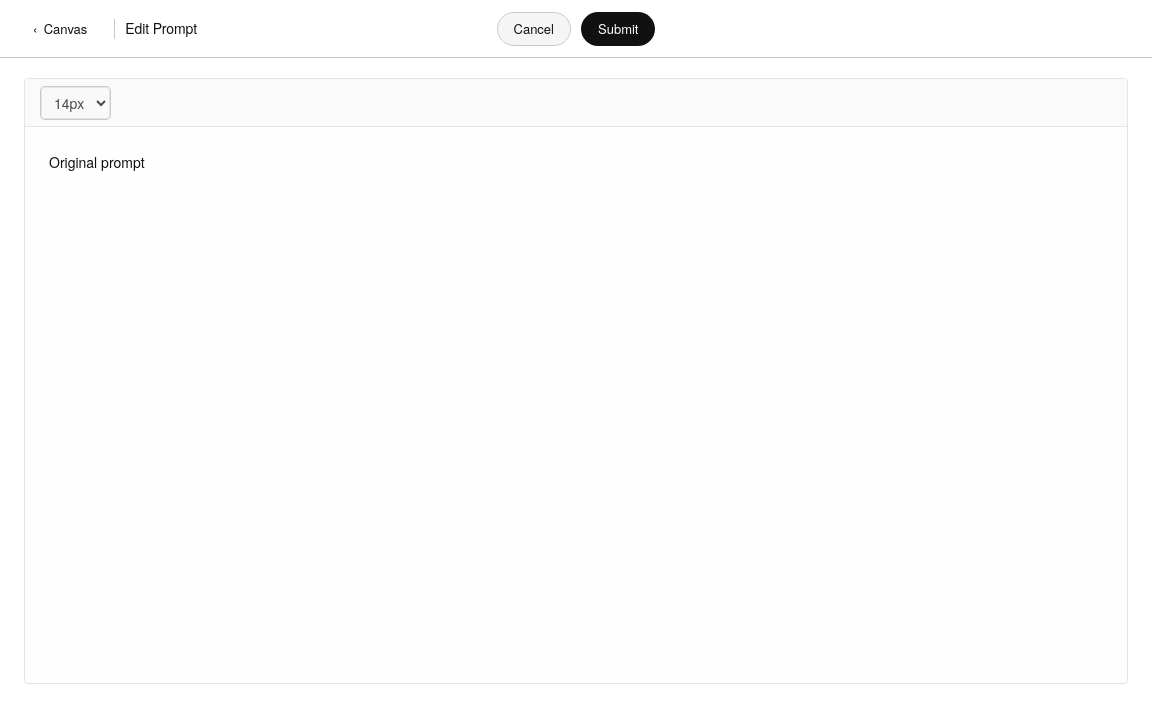
Test: PromptEditorModal › Escape Key › should show confirmation dialog when Escape is pressed with unsaved changes
The image size is (1152, 720).
Replace the text in the text box with placeholder "Describe what to generate..." with "Changed prompt" at (576, 405), box left=25, top=127, right=1127, bottom=683
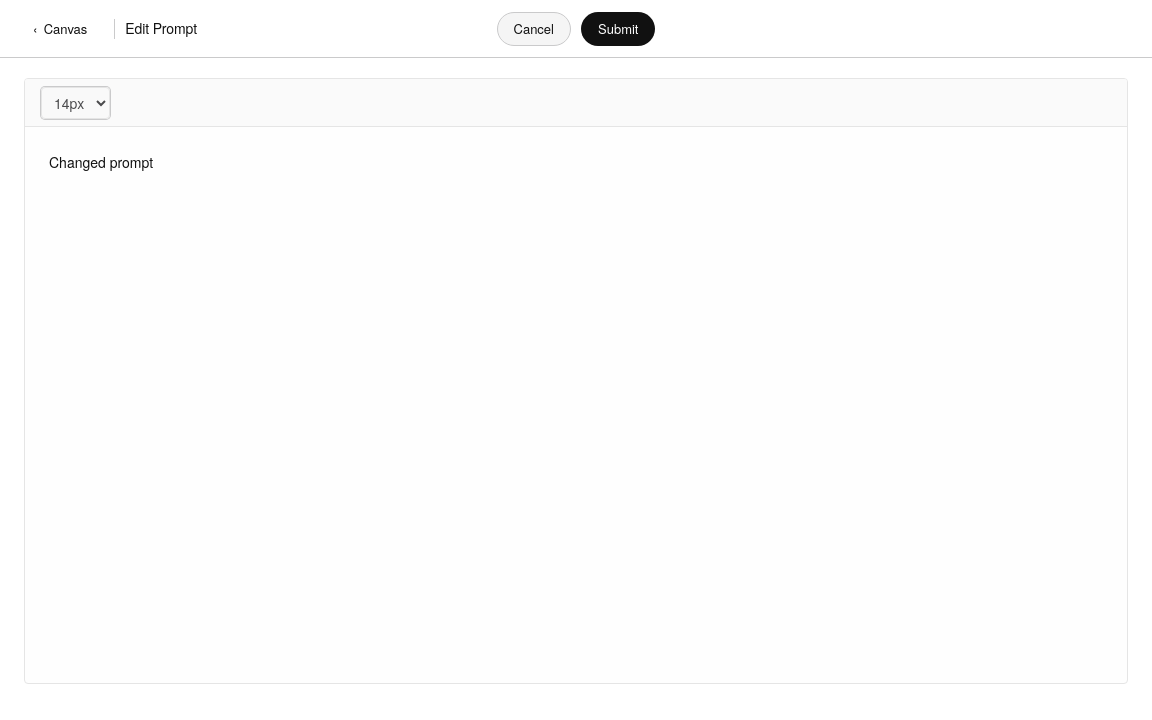
Press Escape
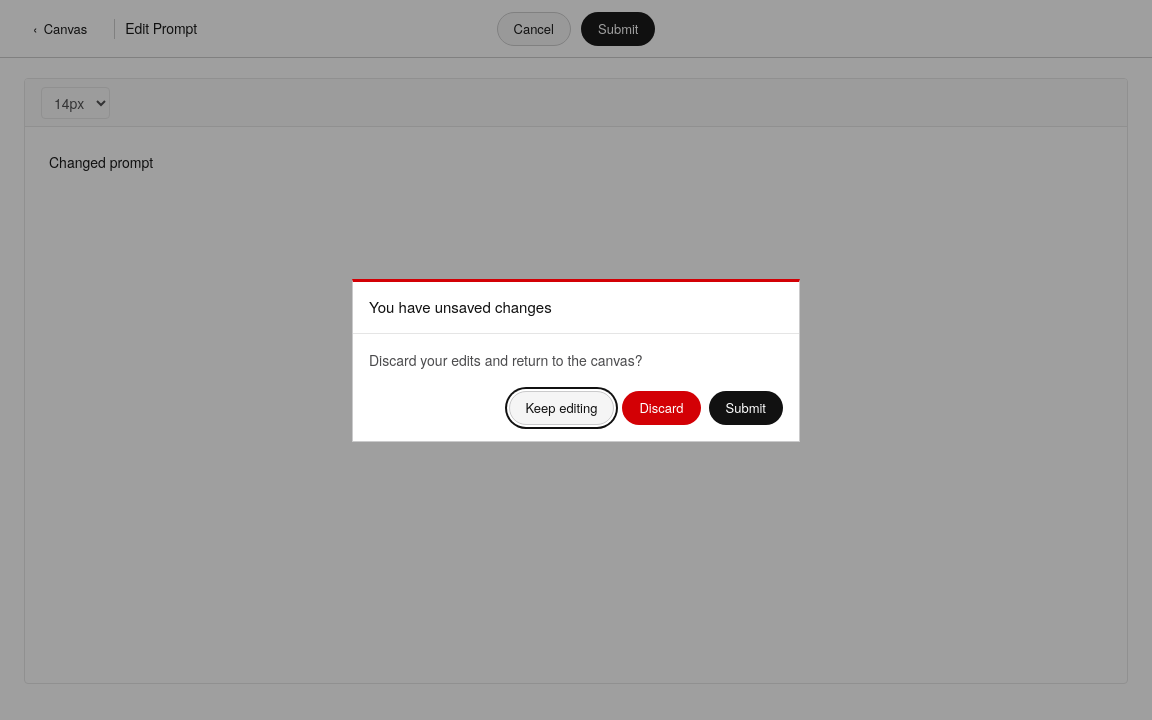
Check: the heading "You have unsaved changes" is shown, box left=369, top=296, right=552, bottom=318
